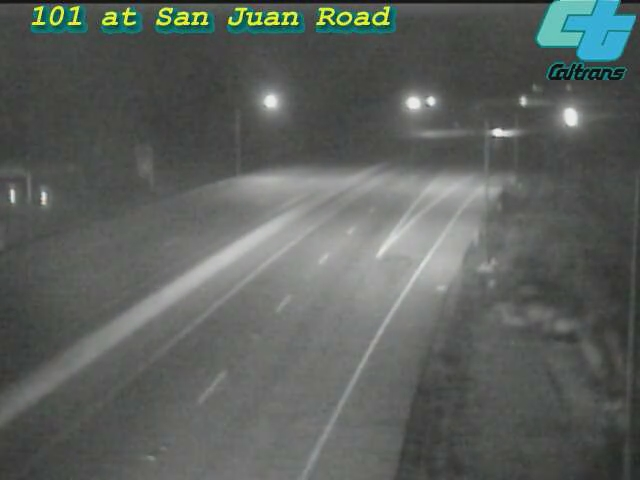vehicle: (475, 107, 525, 157), (544, 93, 594, 143)
